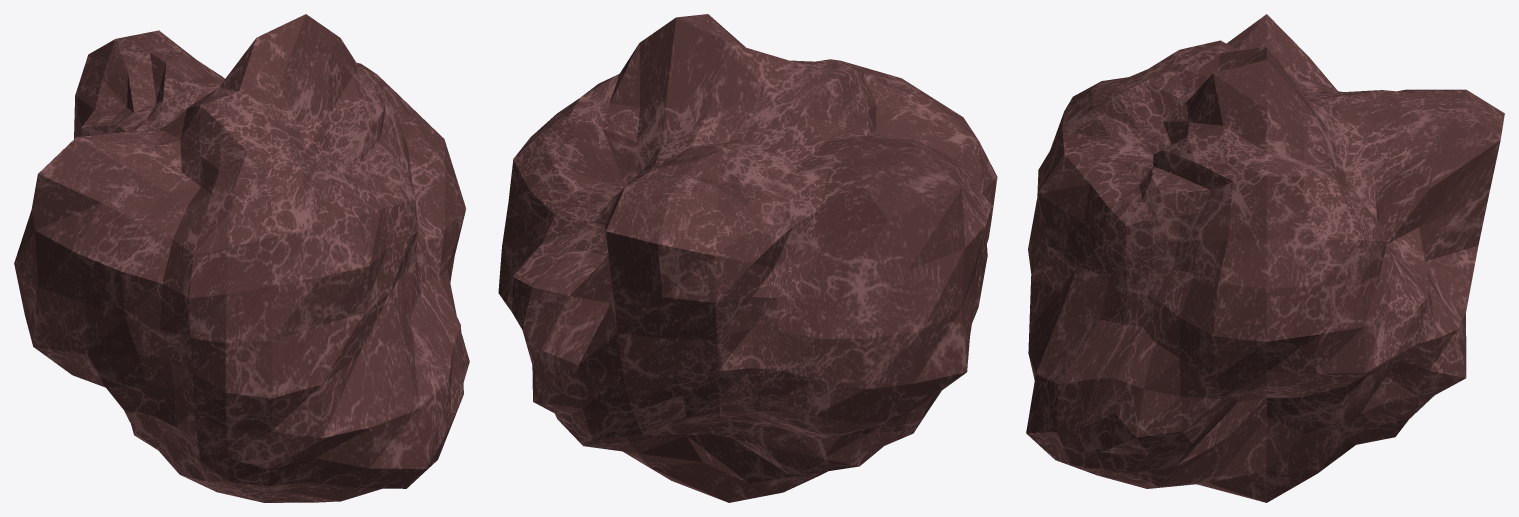
File: R2ED5PKI2NINI4L65Y5WO5OW3.obj
3 views of the same model, side by side, from view 1: azimuth 30°, elevation 25°; view 2: azimuth 150°, elevation 25°; view 3: azimuth 270°, elevation 25° (orthographic). The views are drawn at different scales.
Parts seen in each view (by area): view 1: Object_TexMap_0; view 2: Object_TexMap_0; view 3: Object_TexMap_0.
Boxes of the visible parts, box(x1,y1,x2,y2) form: Object_TexMap_0: box(14, 14, 469, 502); Object_TexMap_0: box(498, 14, 997, 502); Object_TexMap_0: box(1026, 14, 1504, 502).
Size of the model in its own units: 2.46 by 2.5 by 2.41.
1 material, 1 textured.
